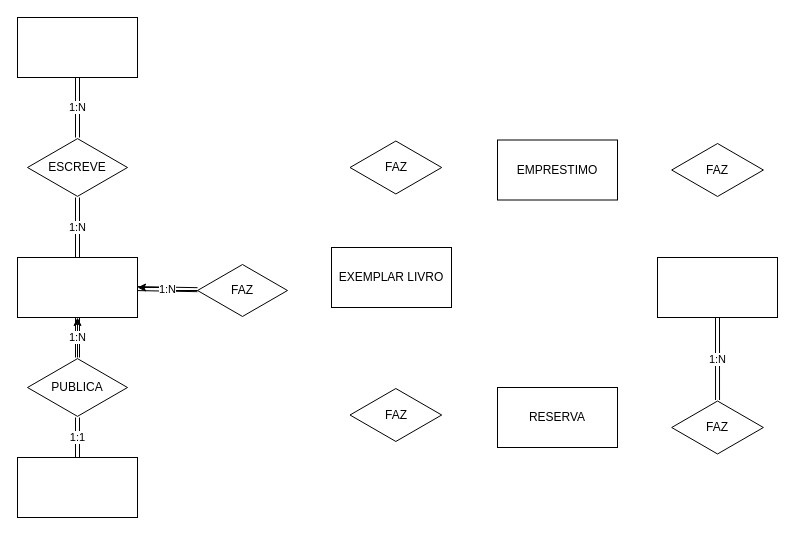
Some shapes in this 795 by 535 pixel diagram are drawn without their labels. The shapes that lost their labels are listed below. From the top down, each one's centre as x and y in pixels, then its label:
(77,47): AUTOR
(77,287): LIVRO
(717,287): ALUNO
(77,487): EDITORA
